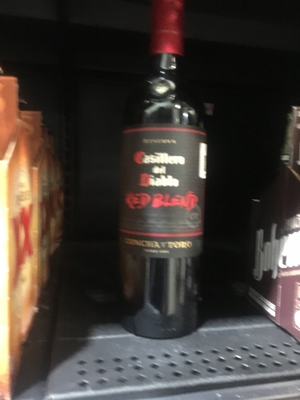casillero del diablo red blend: (110, 9, 230, 342)
